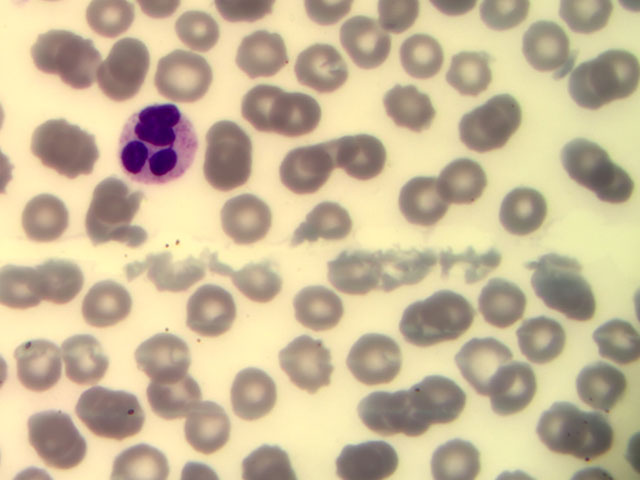RBC: (25, 25, 77, 77), (58, 40, 110, 92), (92, 37, 144, 89), (153, 48, 205, 100), (171, 8, 223, 60), (86, 2, 138, 54), (239, 30, 291, 82), (303, 45, 355, 97), (238, 83, 290, 135), (274, 86, 326, 138), (208, 112, 260, 164), (206, 140, 258, 192), (90, 172, 142, 224), (32, 118, 84, 170), (27, 189, 79, 241), (41, 249, 93, 301), (9, 267, 61, 319), (88, 279, 140, 331), (53, 330, 105, 382), (11, 338, 63, 390), (27, 408, 79, 460), (74, 382, 126, 434), (109, 391, 161, 443), (141, 332, 193, 384), (155, 371, 207, 423), (186, 395, 238, 447), (219, 368, 271, 420), (181, 284, 233, 336), (232, 260, 284, 312), (229, 198, 281, 250), (307, 198, 359, 250), (288, 144, 340, 196), (312, 133, 364, 185), (335, 128, 387, 180), (342, 18, 394, 70), (402, 27, 454, 79), (389, 82, 441, 134), (452, 42, 504, 94), (479, 85, 531, 137), (459, 112, 511, 164), (438, 151, 490, 203), (399, 176, 451, 228), (492, 186, 544, 238), (557, 136, 609, 188), (585, 158, 637, 210), (563, 66, 615, 118), (588, 46, 640, 98), (522, 24, 574, 76), (533, 249, 585, 301), (478, 276, 530, 328), (432, 283, 484, 335), (400, 300, 452, 352), (352, 334, 404, 386), (290, 336, 342, 388), (297, 282, 349, 334), (354, 385, 406, 437), (388, 384, 440, 436), (416, 373, 468, 425), (460, 342, 512, 394), (495, 362, 547, 414), (511, 311, 563, 363), (571, 363, 623, 415), (588, 322, 640, 374), (566, 408, 618, 460), (539, 402, 591, 454), (537, 400, 589, 452), (429, 428, 481, 480), (342, 428, 394, 480), (110, 441, 167, 480)
WBC: (116, 101, 203, 186)
